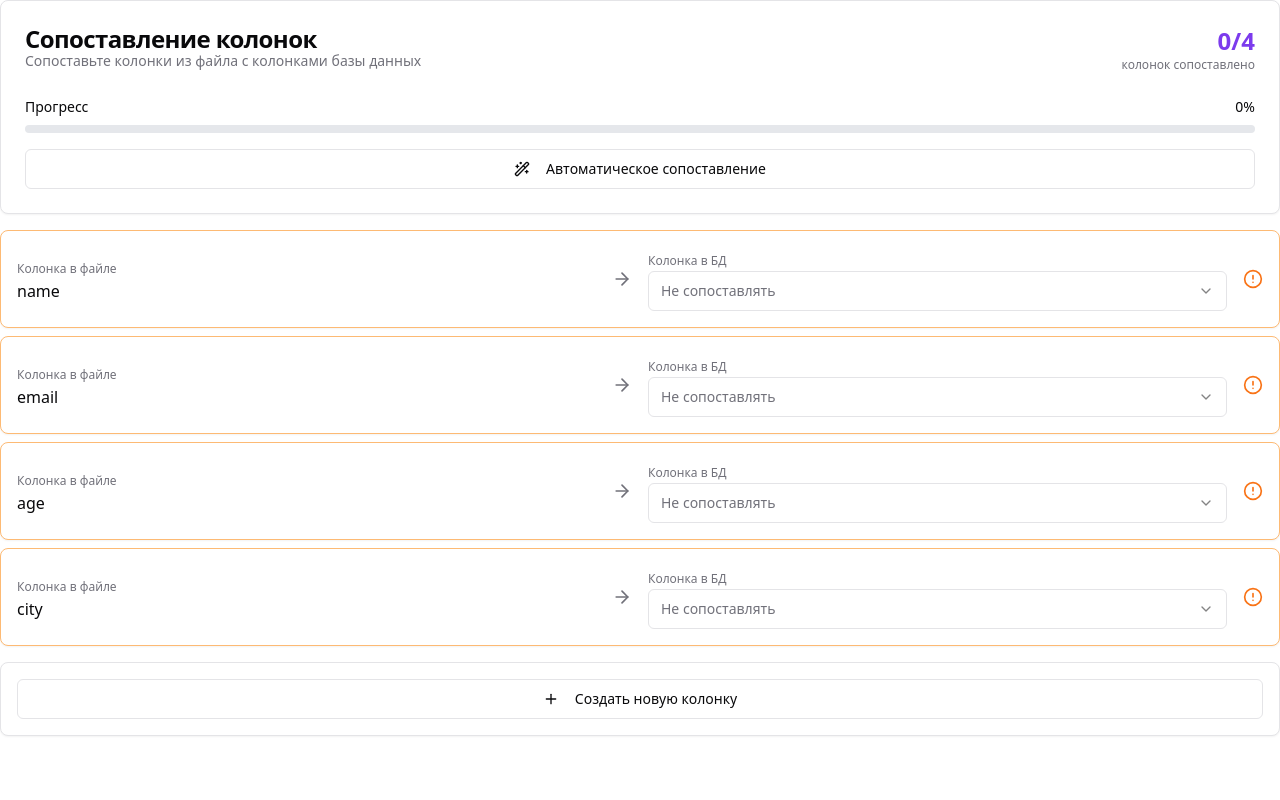
Scenario: ColumnMapper › Create New Column › should close form when cancel button is clicked
What coordinates should you click on to do the following:
click the button "Создать новую колонку"
I would click on:
 (640, 699)
Its box is [17, 679, 1263, 719].
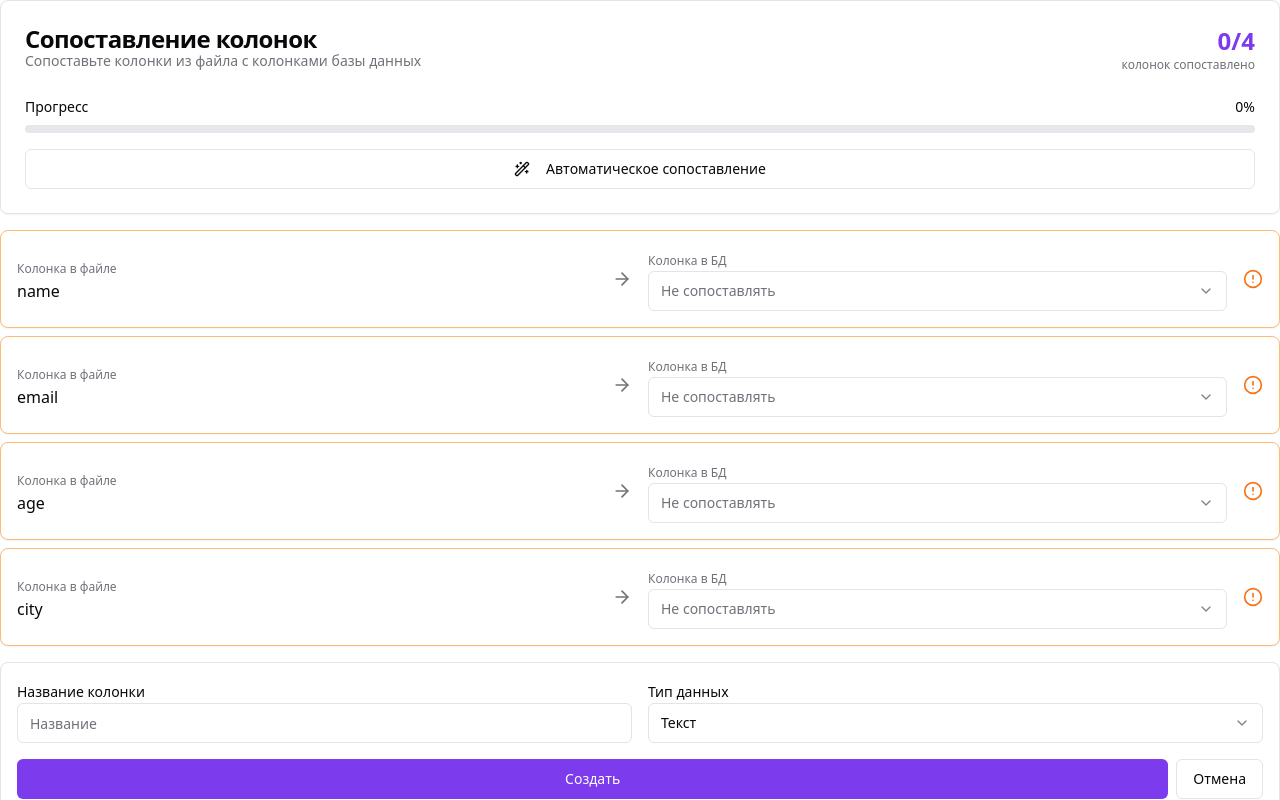
What coordinates should you click on to do the following:
click the button "Отмена"
I would click on:
 (1220, 779)
Its box is [1176, 759, 1263, 799].
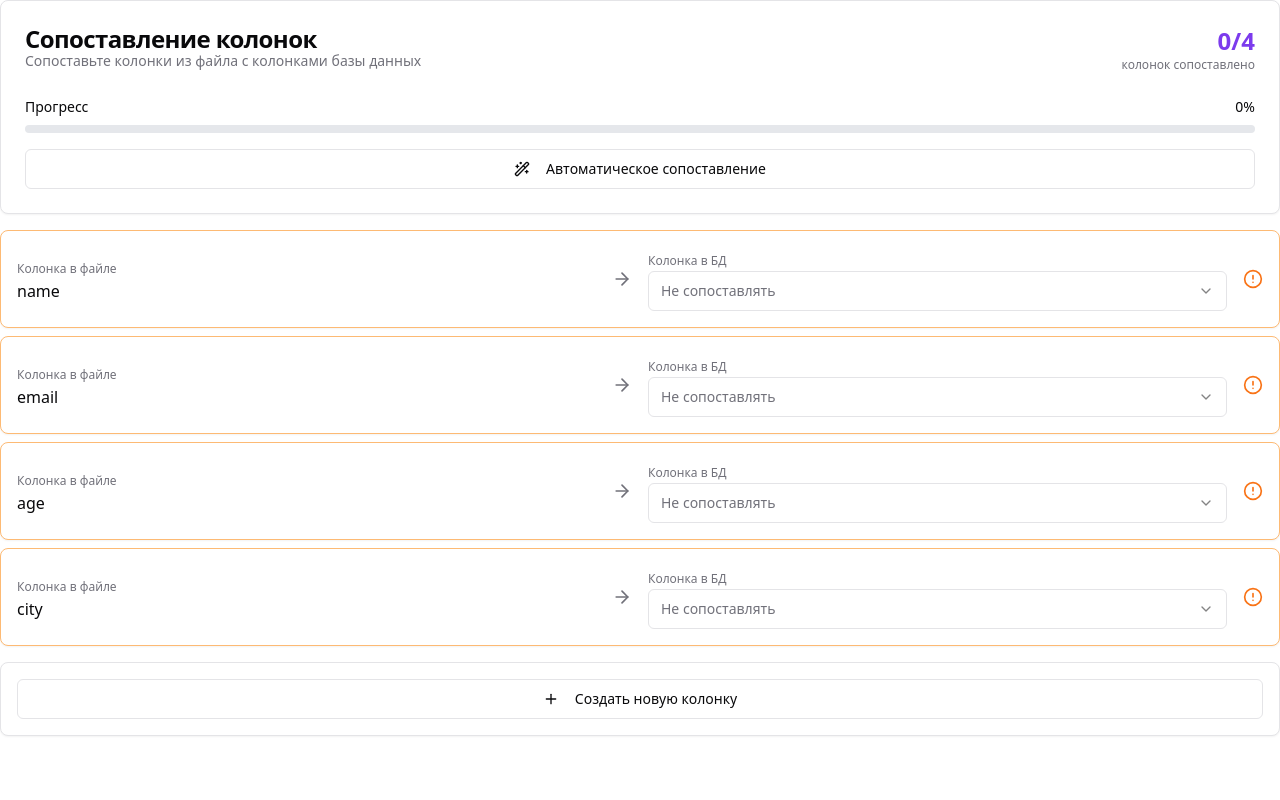
Expected: the label with placeholder "Название" is gone
